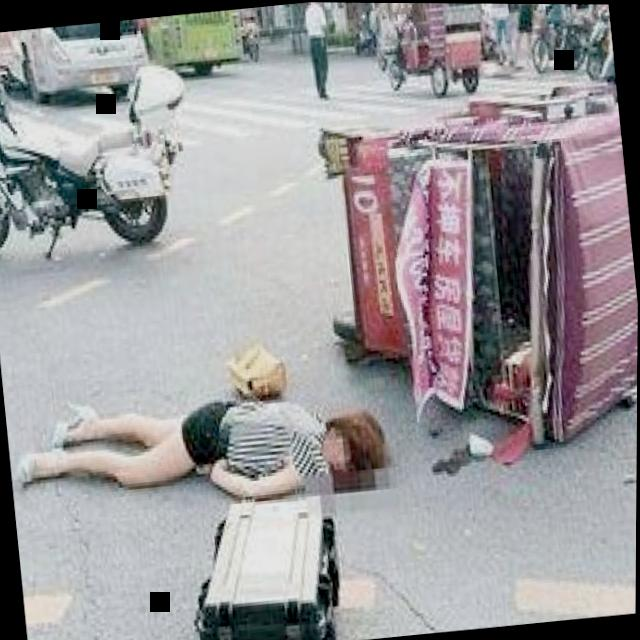Fall-Detected: (0, 311, 401, 530)
